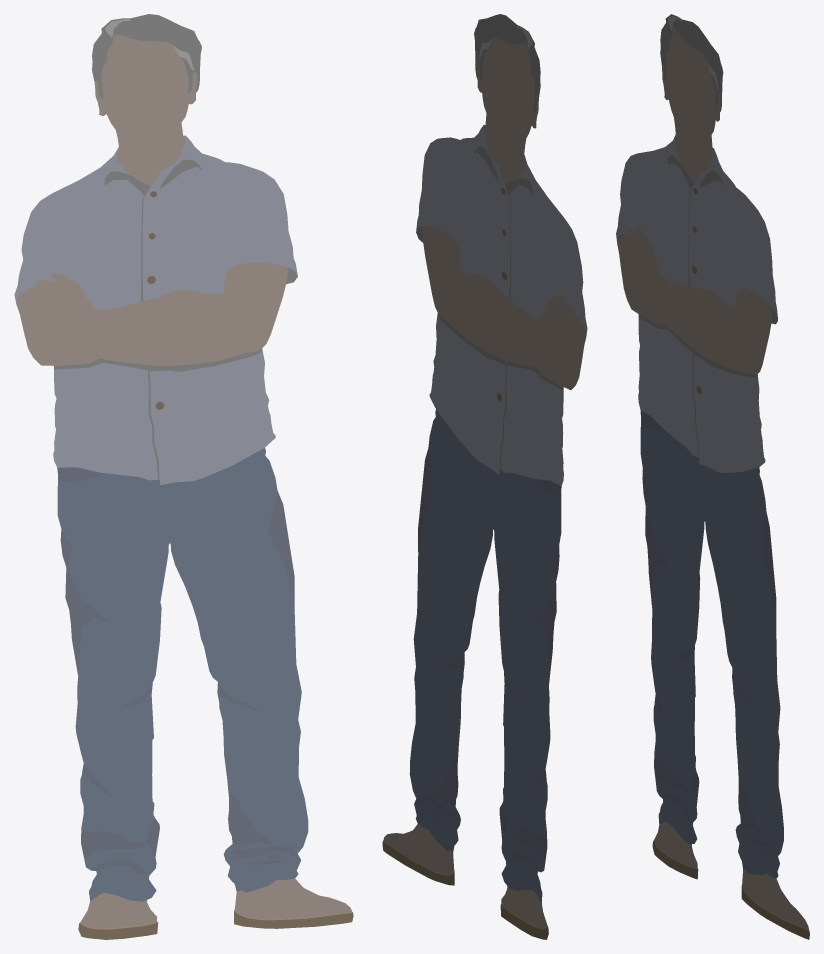
File: man.glb
3 renders of one model, left to right at view 1: azimuth 30°, elevation 25°; view 2: azimuth 150°, elevation 25°; view 3: azimuth 330°, elevation 25°, orthographic. The views are drawn at different scales.
Visible parts, largest first — view 1: Niraj; view 2: Niraj; view 3: Niraj.
Boxes of the visible parts, box(x1,y1,x2,y2) form: Niraj: box(14, 14, 353, 939); Niraj: box(382, 14, 587, 939); Niraj: box(616, 14, 809, 939).
Size of what is drawn, in the model's own units: 0.5559 by 1.79 by 0.2289.
